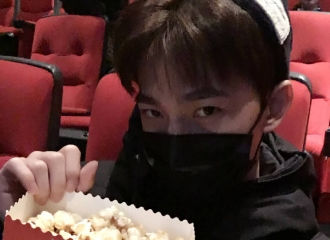face_mask: (139, 52, 253, 193)
